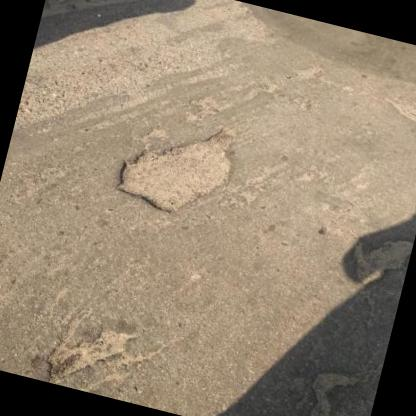pothole: (107, 100, 248, 228), (37, 310, 142, 402)
